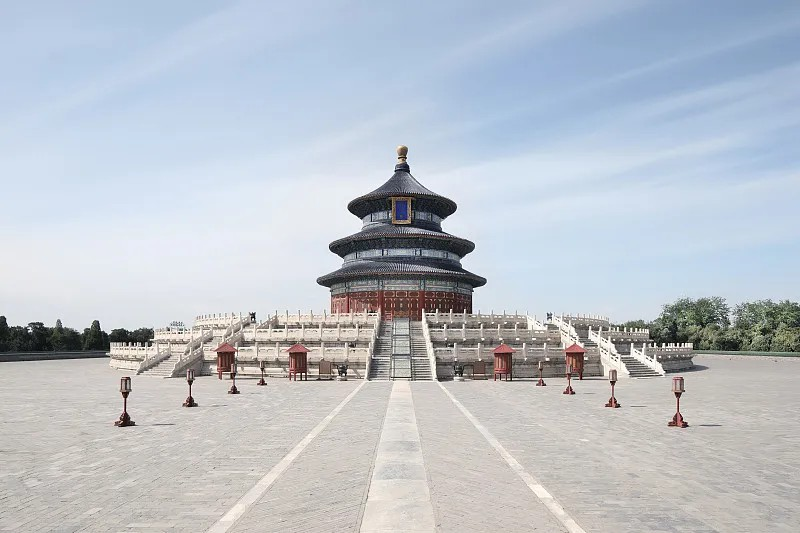Heaven: (317, 144, 488, 321)
